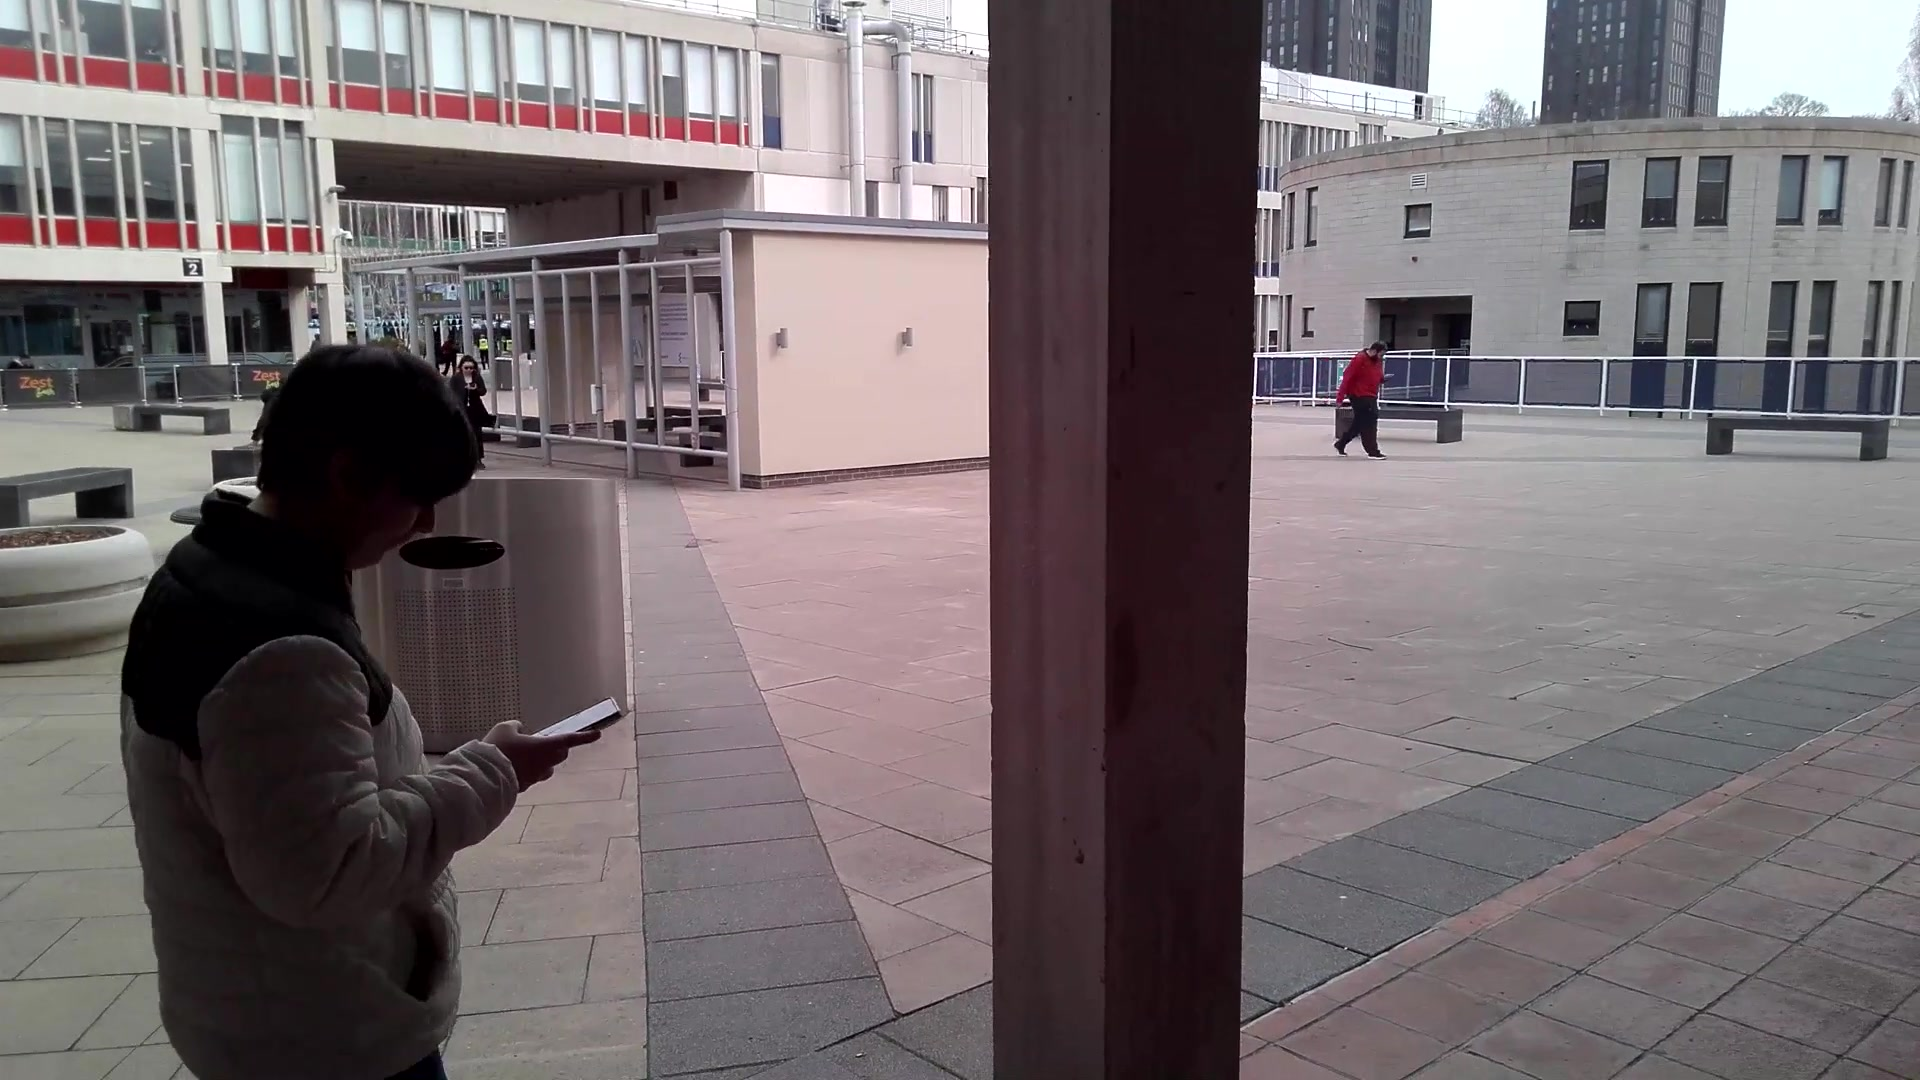Bench: (1702, 410, 1898, 469)
Person: (122, 342, 478, 1079), (1342, 338, 1393, 459)
